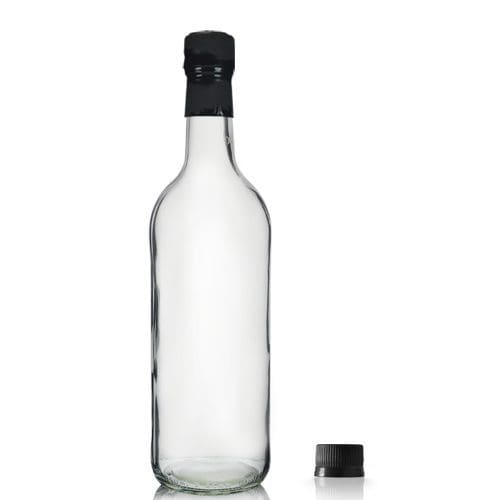glass_bottle: (136, 17, 285, 500)
